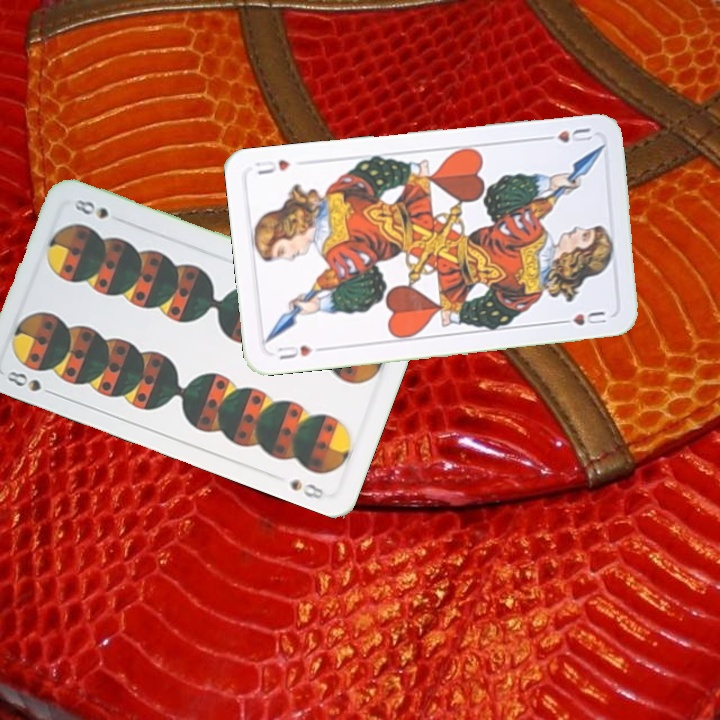HU: (537, 124, 595, 145), (273, 341, 327, 363)
S8: (3, 367, 59, 399)
